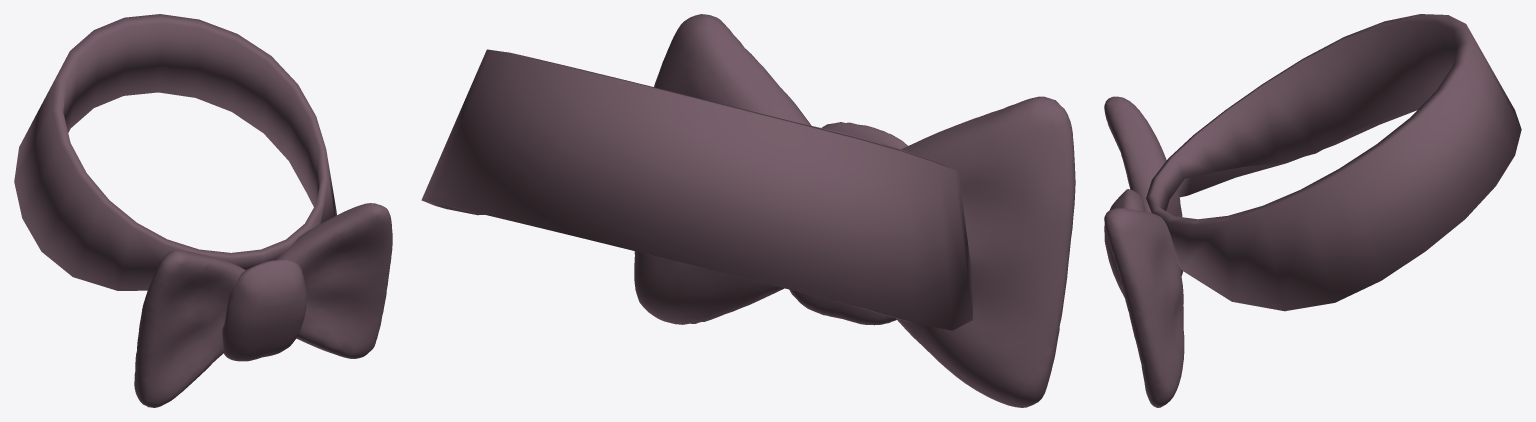
Rendered from dress_crown.obj.
3 renders of one model, left to right at view 1: azimuth 30°, elevation 25°; view 2: azimuth 150°, elevation 25°; view 3: azimuth 270°, elevation 25°, orthographic. The views are drawn at different scales.
Visible parts, largest first — view 1: bowtie; view 2: bowtie; view 3: bowtie.
Part boxes in pixels (bbox=[...]): bowtie: bbox=[14, 14, 392, 407]; bowtie: bbox=[421, 14, 1075, 407]; bowtie: bbox=[1104, 14, 1521, 407].
Bounding box in the file's own units: 9.69 × 8.67 × 10.59.
